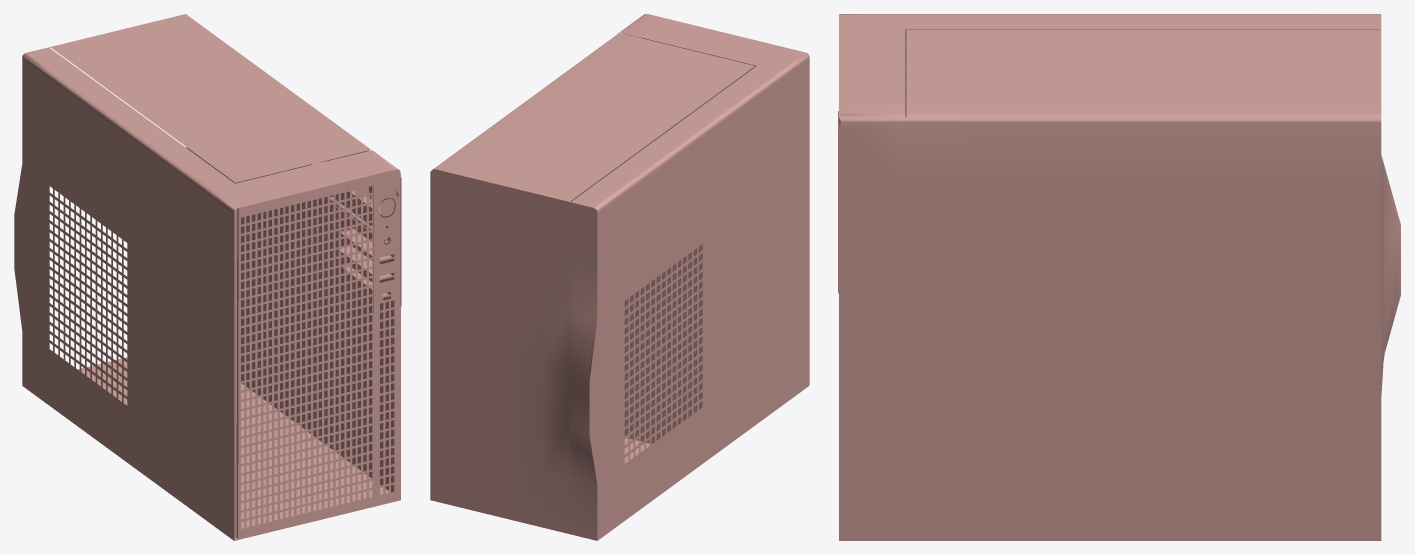
The model's file is 본체 1 glb버젼.glb.
3 views of the same model, side by side, from view 1: azimuth 30°, elevation 25°; view 2: azimuth 150°, elevation 25°; view 3: azimuth 270°, elevation 25° (orthographic). The views are drawn at different scales.
Visible parts, largest first — view 1: Box001; view 2: Box001; view 3: Box001.
Part boxes in pixels (<box>): Box001: <box>14,14,401,540</box>; Box001: <box>430,14,809,540</box>; Box001: <box>838,14,1400,540</box>.
Bounding box in the file's own units: 1.6 × 3.05 × 3.66.
